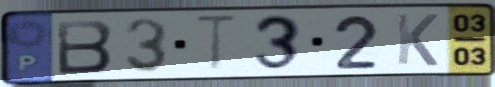2: (327, 10, 385, 73)
3: (250, 12, 308, 74), (122, 16, 170, 76)
B: (54, 18, 117, 76)
K: (393, 12, 440, 69)
T: (190, 13, 242, 75)
